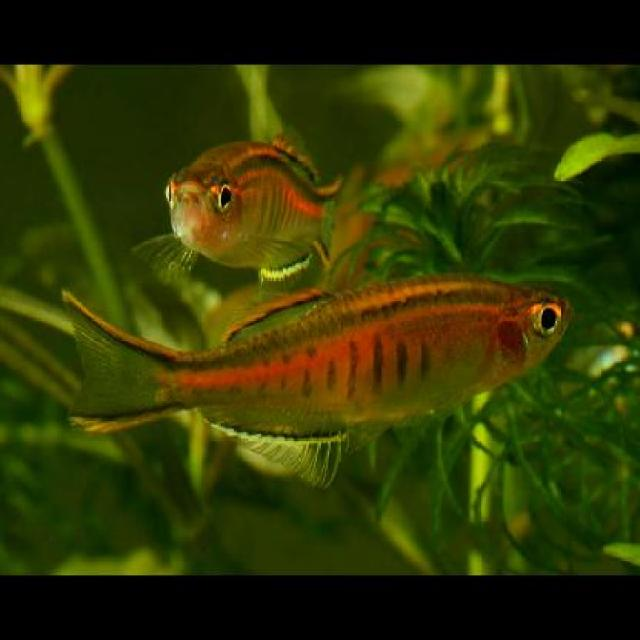ZebraFish: (47, 267, 576, 481)
